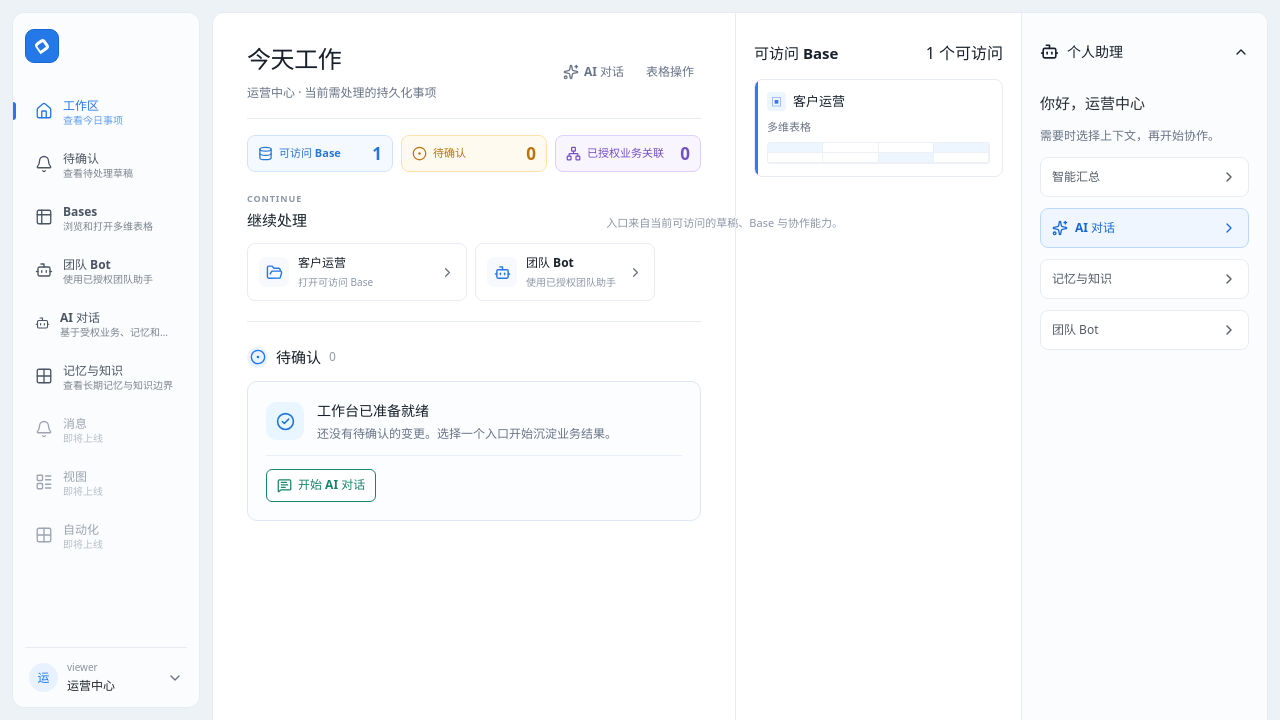
Scenario: discards an in-flight Base directory response after a workspace switch
The width and height of the screenshot is (1280, 720).
Click the button with aria-label "Bases：浏览和打开多维表格" at (106, 217), box [25, 193, 187, 241]
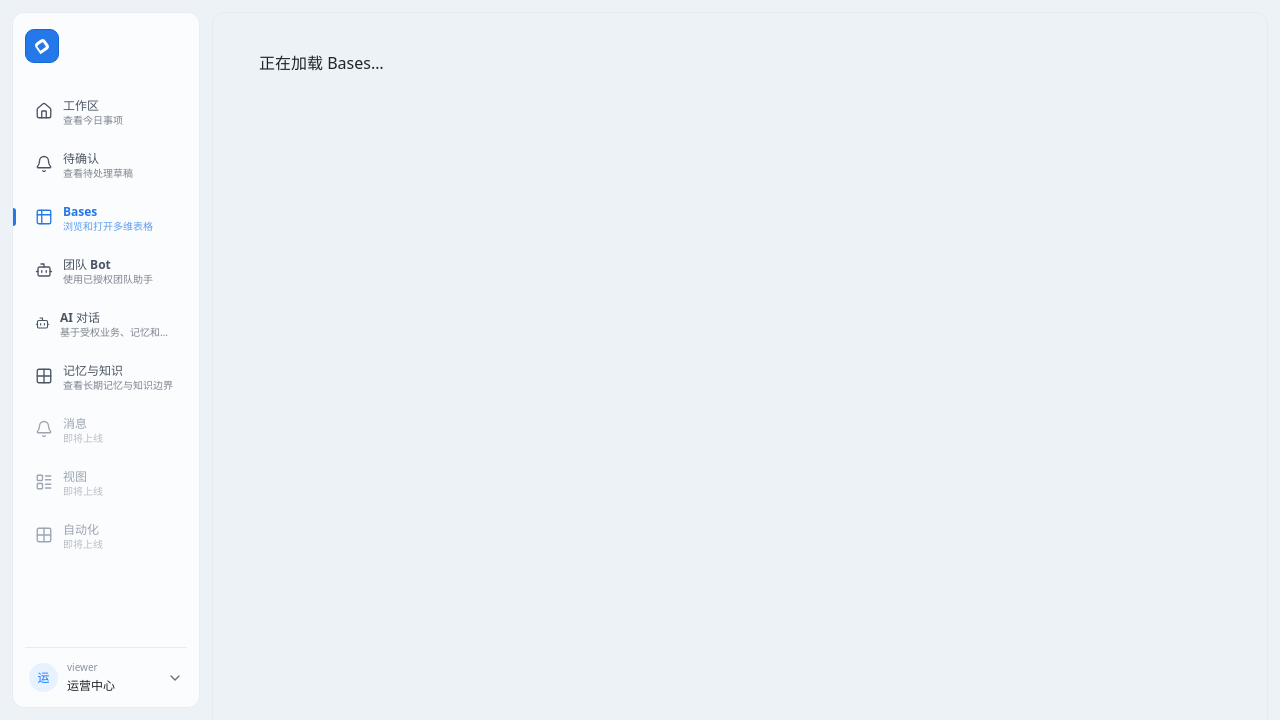
Select "项目中心" in the dropdown named "切换工作区（桌面）" at (112, 686), box [67, 677, 158, 695]
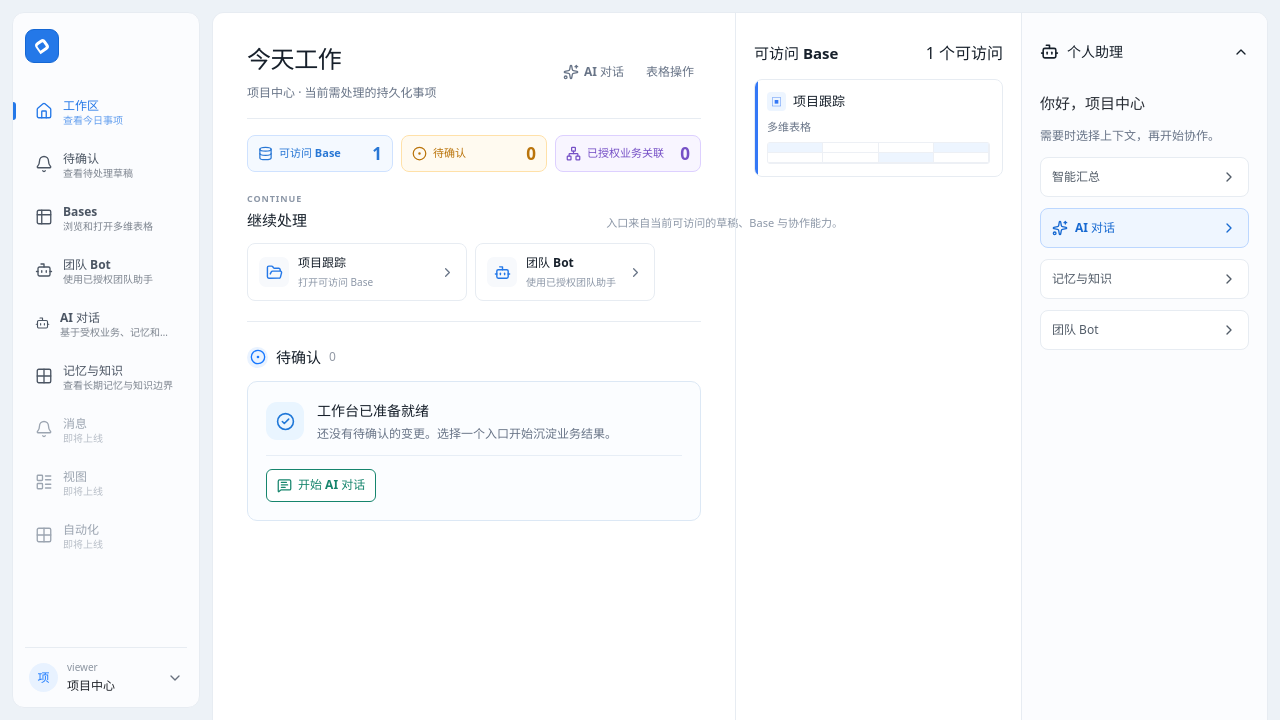
expect the button "客户运营" is not shown: met
expect the link "▣ 项目跟踪 多维表格" is shown: met, box [754, 79, 1003, 177]
